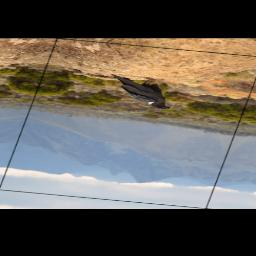Crow: (97, 72, 185, 111)
